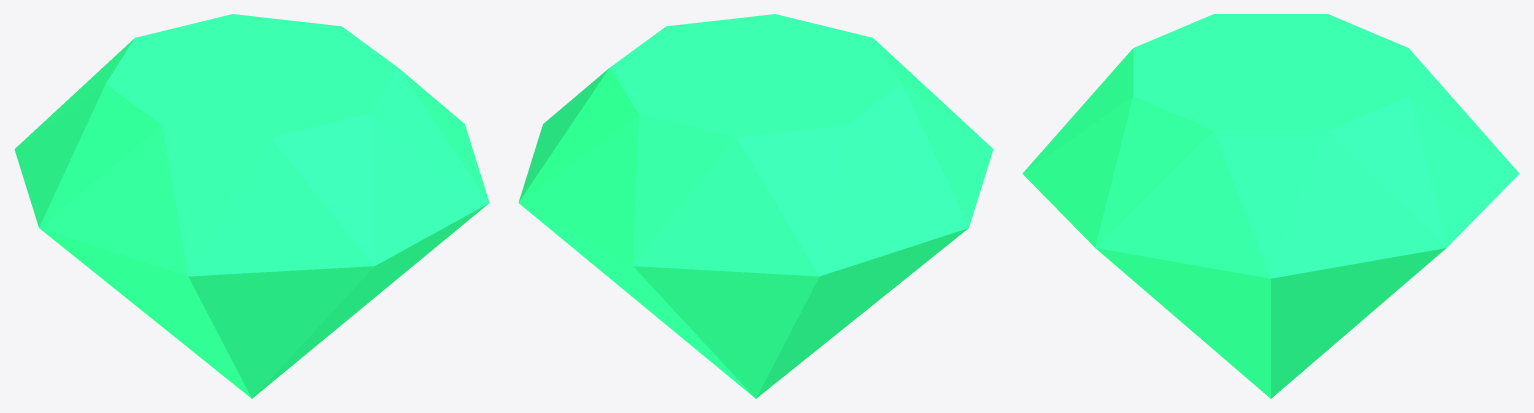
The model's file is gem_emerald_regular.glb.
The picture shows the model from 3 angles, left to right: view 1: azimuth 30°, elevation 25°; view 2: azimuth 150°, elevation 25°; view 3: azimuth 270°, elevation 25°; orthographic projection.
Parts seen in each view (by area): view 1: gem_emerald_3; view 2: gem_emerald_3; view 3: gem_emerald_3.
Boxes of the visible parts, x1,y1,x2,y2 form: gem_emerald_3: (14,14,489,398); gem_emerald_3: (518,14,993,398); gem_emerald_3: (1022,14,1519,398).
Size of the model in its own units: 0.09 by 0.0653 by 0.09.
